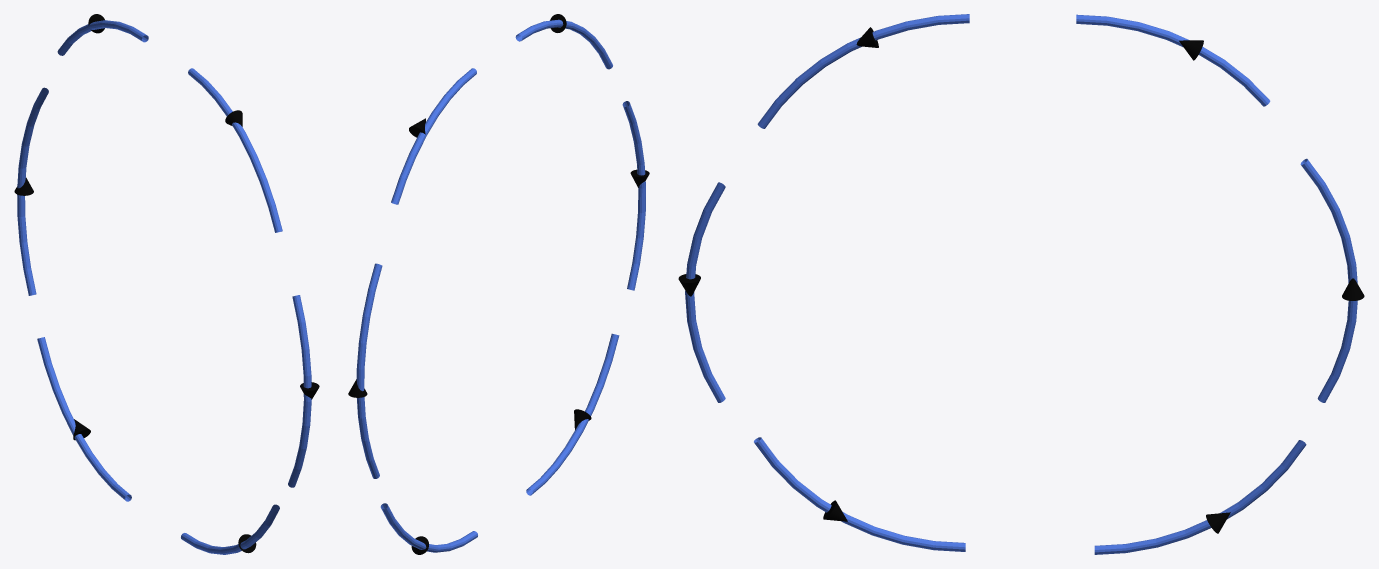
File: cycle.gltf
3 views of the same model, side by side, from view 1: azimuth 30°, elevation 25°; view 2: azimuth 150°, elevation 25°; view 3: azimuth 270°, elevation 25° (orthographic). The views are drawn at different scales.
Parts seen in each view (by area): view 1: Cone; view 2: Cone; view 3: Cone.
Part boxes in pixels (box(x1,y1,x2,y2)): Cone: box(14, 14, 319, 554); Cone: box(348, 14, 649, 554); Cone: box(678, 14, 1364, 554).
Size of the model in its own units: 0.2346 by 4.06 by 4.63.
